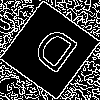D: (24, 25, 81, 83)
